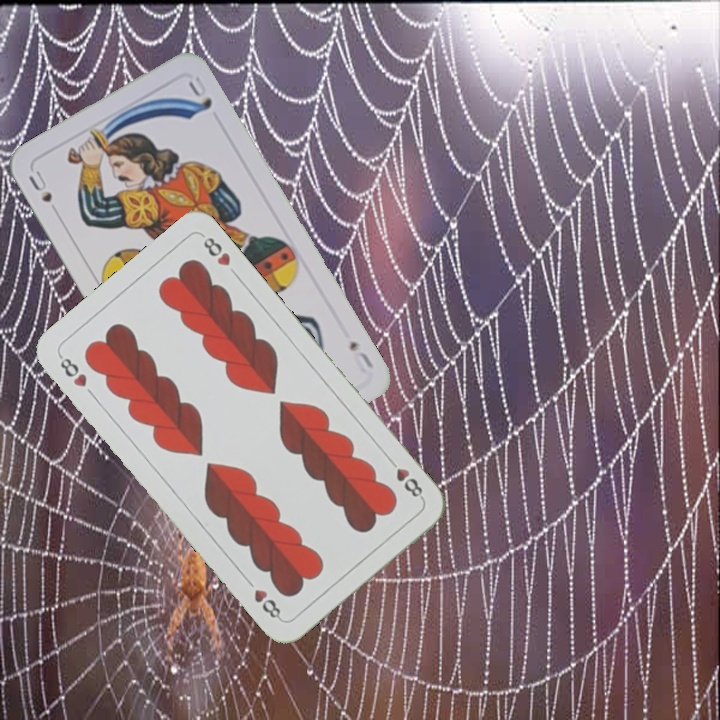H8: (383, 453, 426, 503), (54, 351, 90, 390)
SU: (24, 166, 63, 220), (345, 336, 376, 376)
